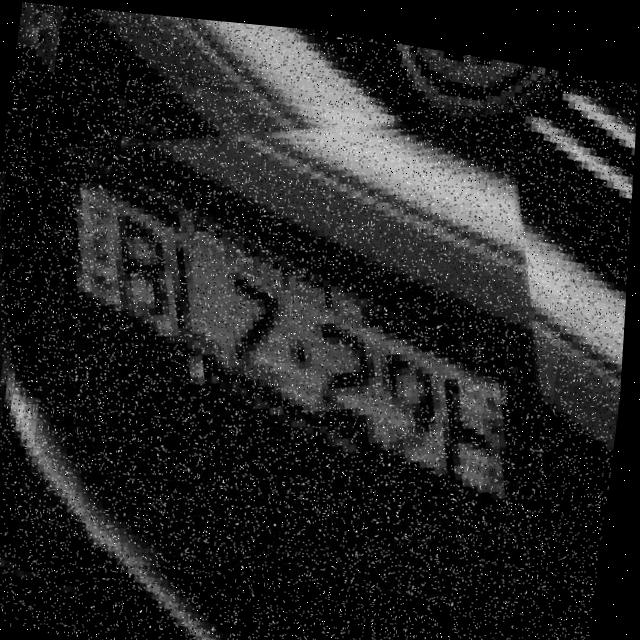LicensePlate: (20, 62, 587, 607)
